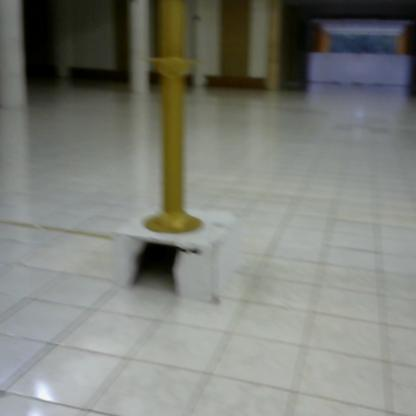pole: (133, 6, 212, 242)
